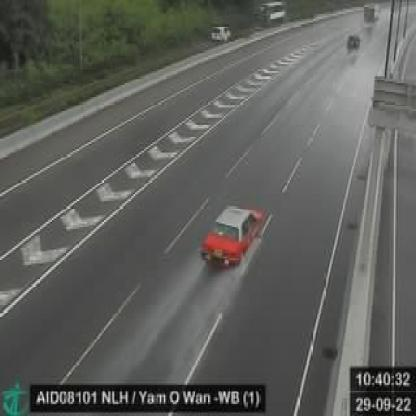Car: (191, 201, 269, 270), (343, 28, 363, 53), (209, 24, 233, 44)
